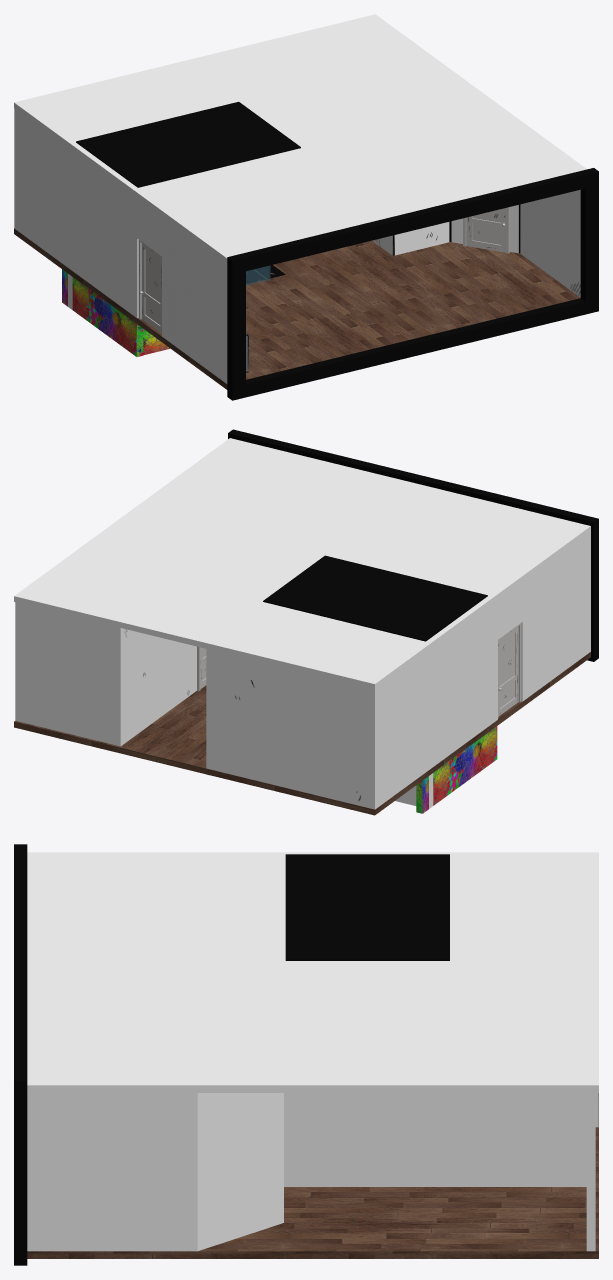
File: SecondHallSober.fbx
3 renders of one model, top to bottom at view 1: azimuth 30°, elevation 25°; view 2: azimuth 150°, elevation 25°; view 3: azimuth 270°, elevation 25°, orthographic. The views are drawn at different scales.
Visible parts, largest first — view 1: Ceiling, Floor, WallLeft, Frame, Floor1rslvl, WallRight, WallsBasement, DoorFrame2, Door2, WallsStorage; view 2: Ceiling, WallLeft, WallsStorage, WallRight, Floor1rslvl, Floor, Frame, WallsBasement, DoorFrame2; view 3: Ceiling, WallRight, Floor, Floor1rslvl, Frame, WallLeft.
Boxes of the visible parts, x1=… form: Ceiling: x1=14, y1=14, x2=586, y2=263; Floor: x1=14, y1=228, x2=580, y2=389; WallLeft: x1=16, y1=102, x2=231, y2=383; Frame: x1=227, y1=168, x2=598, y2=400; Floor1rslvl: x1=76, y1=101, x2=300, y2=187; WallRight: x1=372, y1=189, x2=580, y2=297; WallsBasement: x1=62, y1=269, x2=266, y2=356; DoorFrame2: x1=141, y1=243, x2=161, y2=333; Door2: x1=466, y1=208, x2=505, y2=252; WallsStorage: x1=14, y1=109, x2=72, y2=309; Ceiling: x1=14, y1=438, x2=590, y2=689; WallLeft: x1=370, y1=526, x2=590, y2=806; WallsStorage: x1=206, y1=647, x2=433, y2=809; WallRight: x1=15, y1=602, x2=196, y2=746; Floor1rslvl: x1=263, y1=555, x2=487, y2=641; Floor: x1=14, y1=652, x2=590, y2=815; Frame: x1=228, y1=429, x2=598, y2=661; WallsBasement: x1=416, y1=726, x2=497, y2=813; DoorFrame2: x1=498, y1=626, x2=518, y2=716; Ceiling: x1=27, y1=852, x2=598, y2=1092; WallRight: x1=27, y1=1093, x2=595, y2=1251; Floor: x1=27, y1=1093, x2=598, y2=1258; Floor1rslvl: x1=285, y1=854, x2=449, y2=960; Frame: x1=14, y1=844, x2=27, y2=1265; WallLeft: x1=27, y1=852, x2=593, y2=856.
Size of the model in its own units: 606 by 268 by 635.
15 materials, 11 textured.
